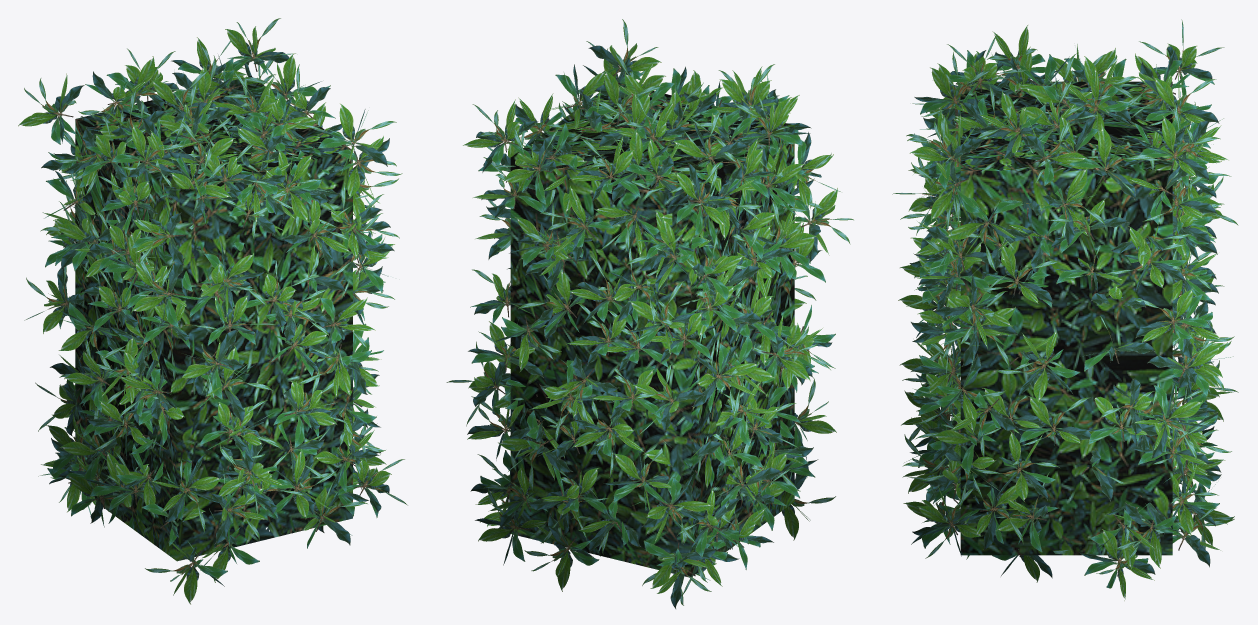
File: HedgeLongExp.obj
3 views of the same model, side by side, from view 1: azimuth 30°, elevation 25°; view 2: azimuth 150°, elevation 25°; view 3: azimuth 270°, elevation 25° (orthographic). The views are drawn at different scales.
Visible parts, largest first — view 1: HedgeLong_HedgeLong_Default_OBJ; view 2: HedgeLong_HedgeLong_Default_OBJ; view 3: HedgeLong_HedgeLong_Default_OBJ.
Part boxes in pixels (x1,y1,x2,y2): HedgeLong_HedgeLong_Default_OBJ: (18,18,407,604); HedgeLong_HedgeLong_Default_OBJ: (446,19,853,608); HedgeLong_HedgeLong_Default_OBJ: (892,19,1238,600).
Bounding box in the file's own units: 26.47 × 41.18 × 26.9.
1 material, 1 textured.
